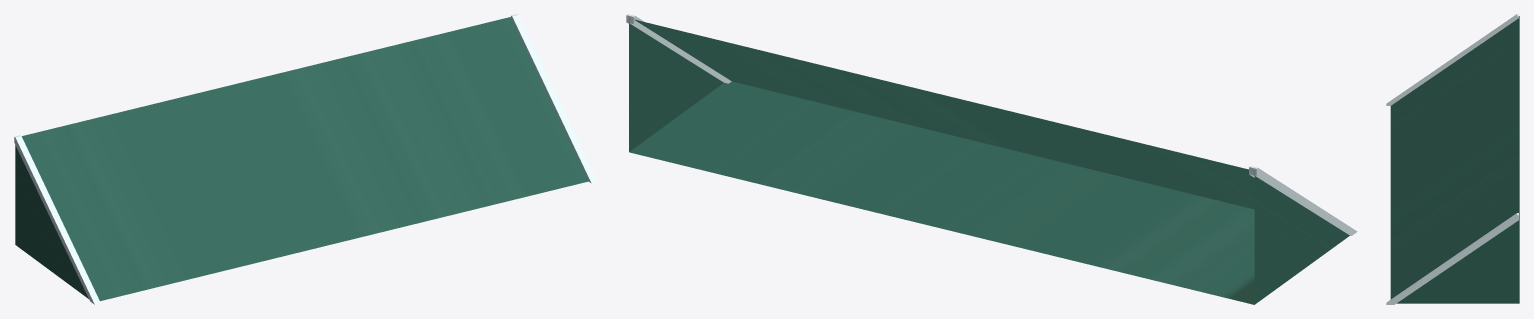
Rendered from slope floor.fbx.
3 views of the same model, side by side, from view 1: azimuth 30°, elevation 25°; view 2: azimuth 150°, elevation 25°; view 3: azimuth 270°, elevation 25° (orthographic). The views are drawn at different scales.
Visible parts, largest first — view 1: 立方体.004, 立方体.003; view 2: 立方体.004, 立方体.003; view 3: 立方体.004, 立方体.003.
Part boxes in pixels (bbox=[...]): 立方体.004: bbox=[15, 17, 588, 301]; 立方体.003: bbox=[14, 14, 597, 304]; 立方体.004: bbox=[629, 18, 1349, 304]; 立方体.003: bbox=[626, 14, 1357, 235]; 立方体.004: bbox=[1390, 16, 1519, 303]; 立方体.003: bbox=[1386, 14, 1518, 304].
Bounding box in the file's own units: 896 × 186 × 250.
Materials: 2 (1 with a texture image).
